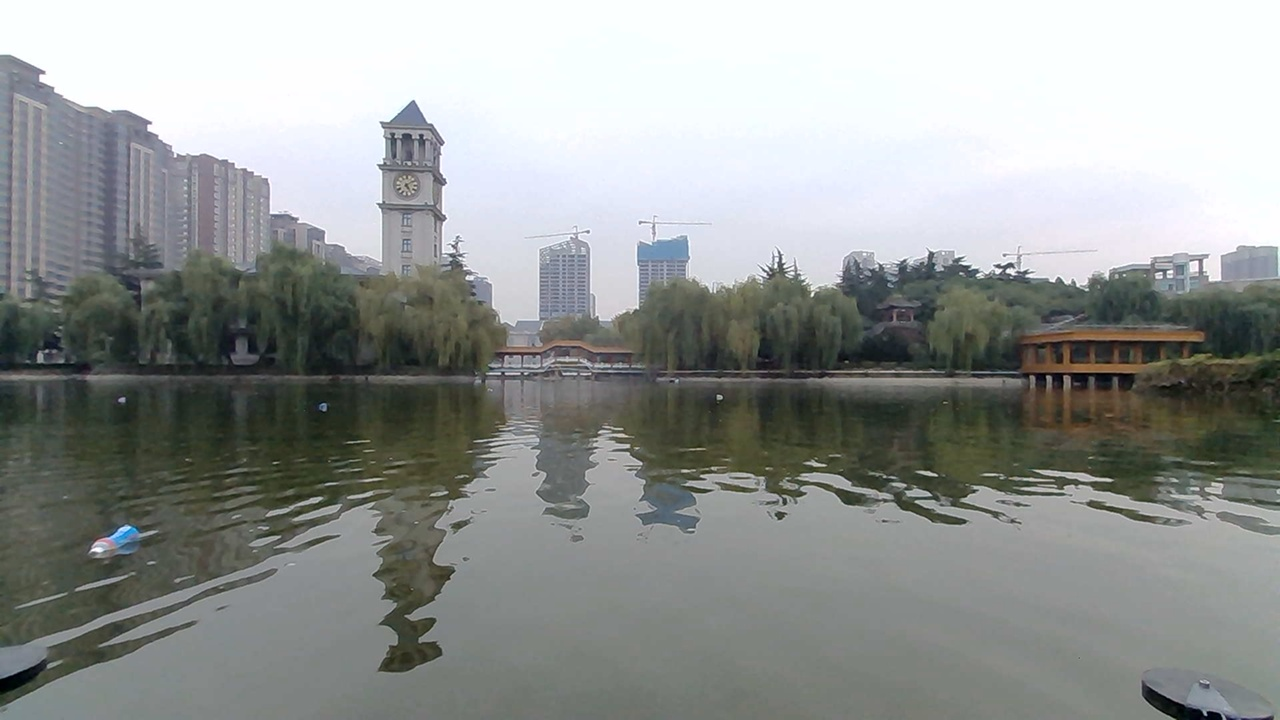bottle: (79, 522, 164, 562), (109, 386, 145, 410), (307, 394, 341, 416), (705, 389, 741, 408)
